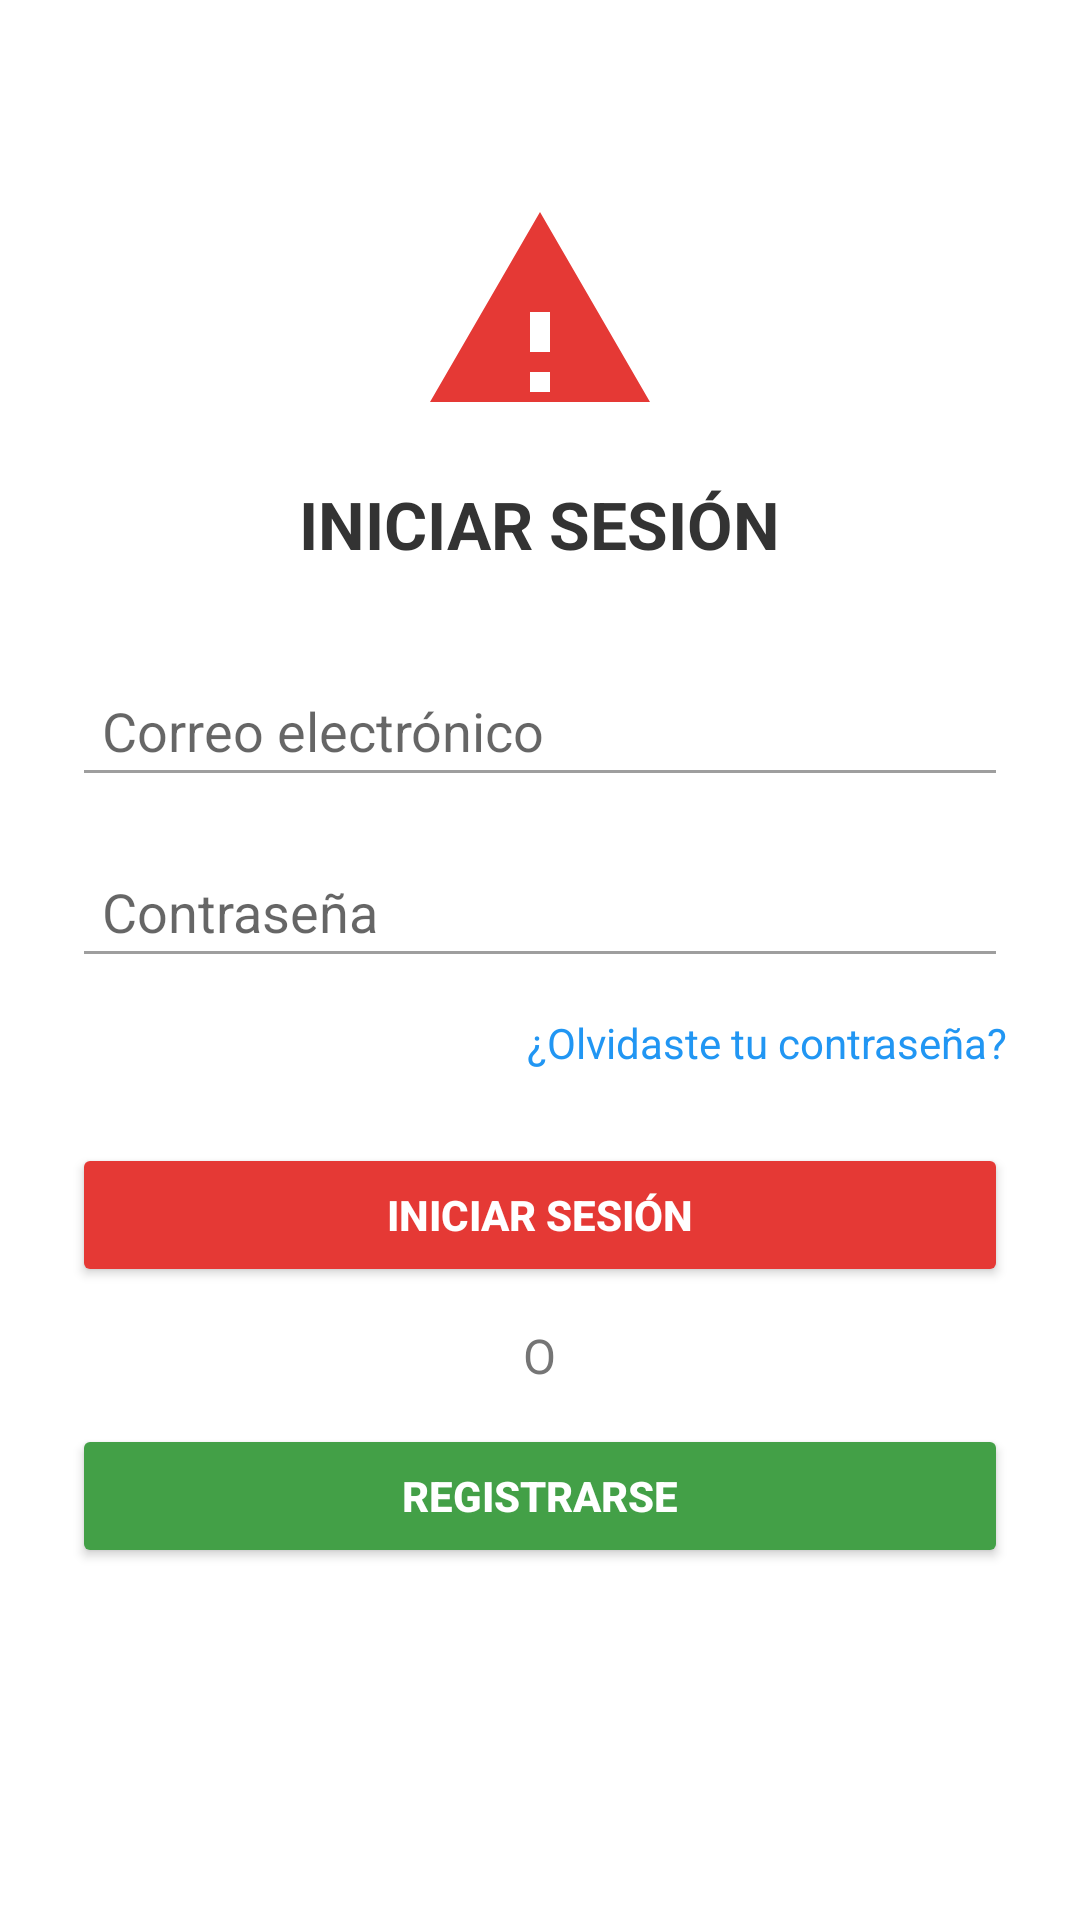

Where icons sit on this 1080px×1920px app screen, as (x1, y1, x2, y2):
warning: (430, 212, 650, 402)
